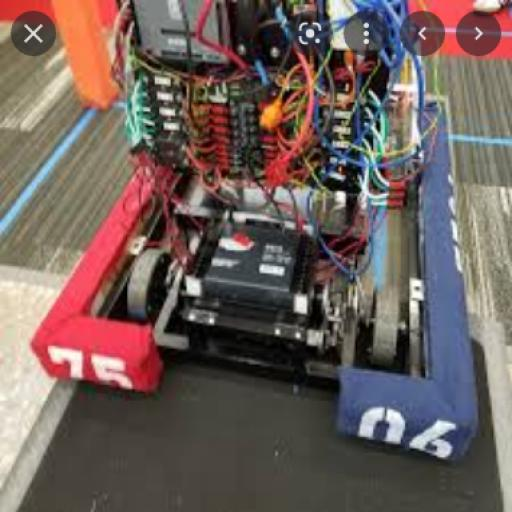robot: (34, 14, 486, 466)
